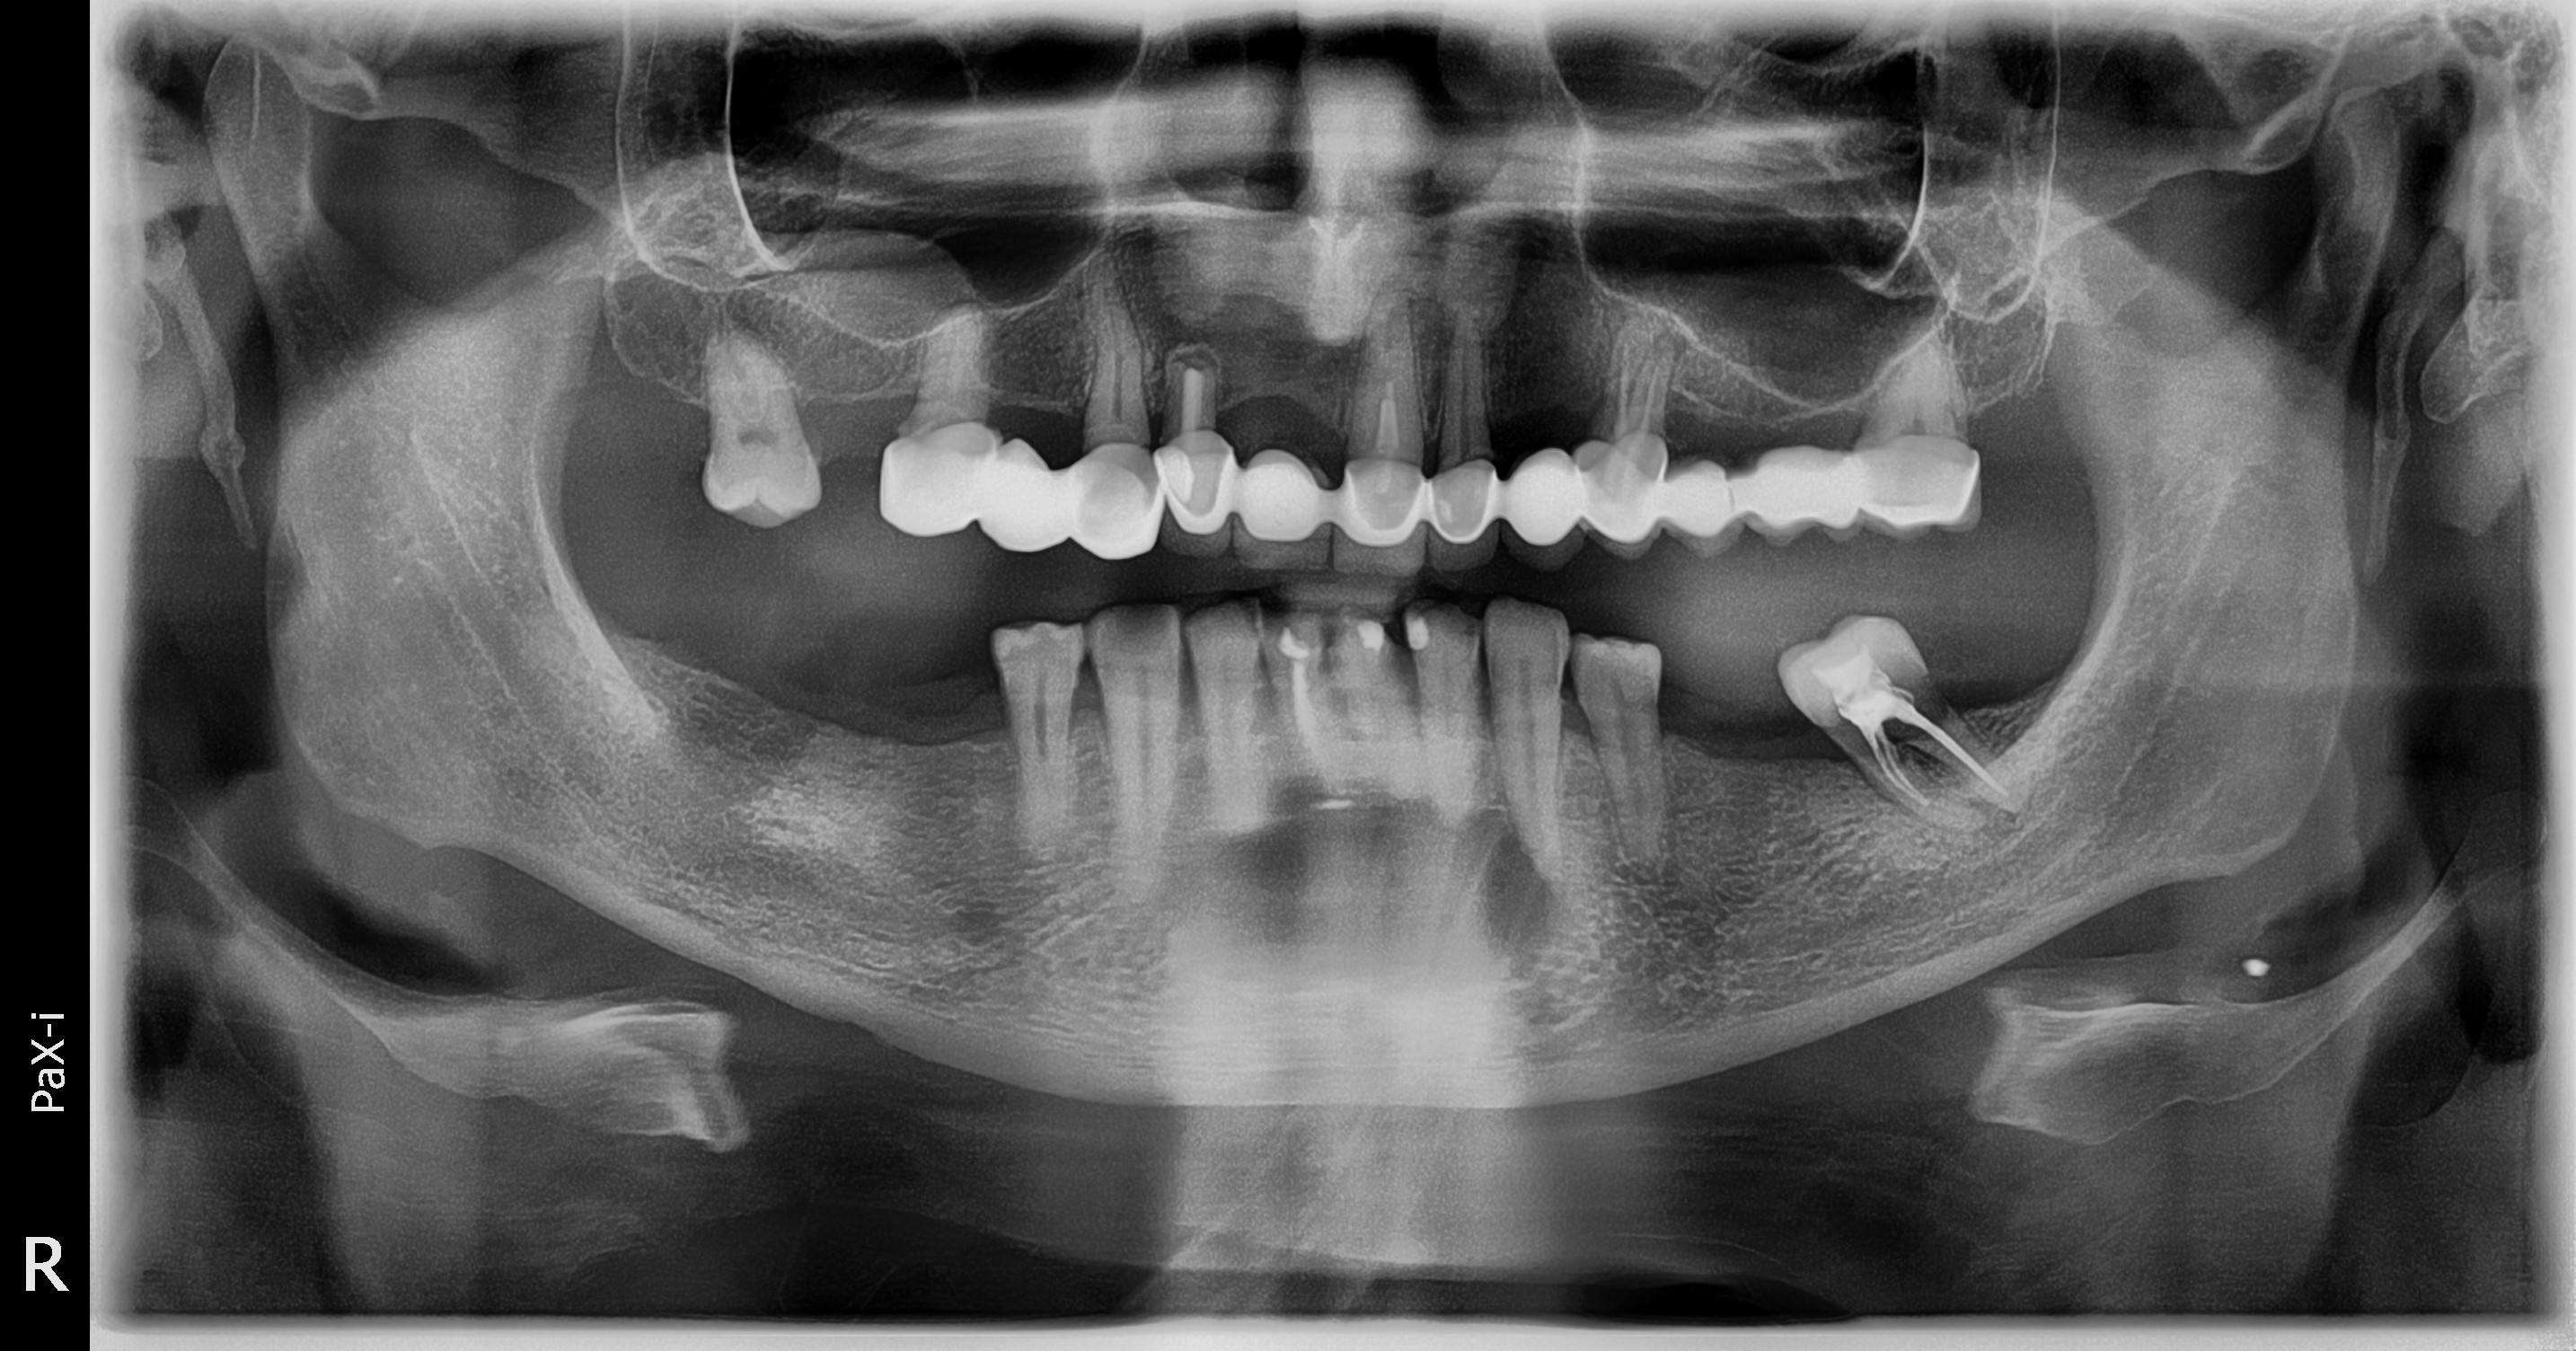CAR: (1090, 603, 1216, 700)
END: (1814, 731, 2048, 857), (1240, 678, 1373, 852)
OBT: (1787, 634, 1973, 727), (1399, 605, 1446, 670), (1343, 612, 1419, 651), (1276, 615, 1334, 651)
PRR: (842, 417, 2060, 588)
